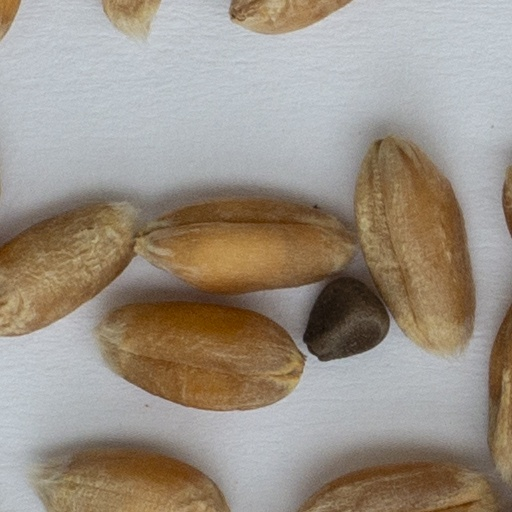Wheat-grain-damaged-poly: (98, 0, 165, 42)
